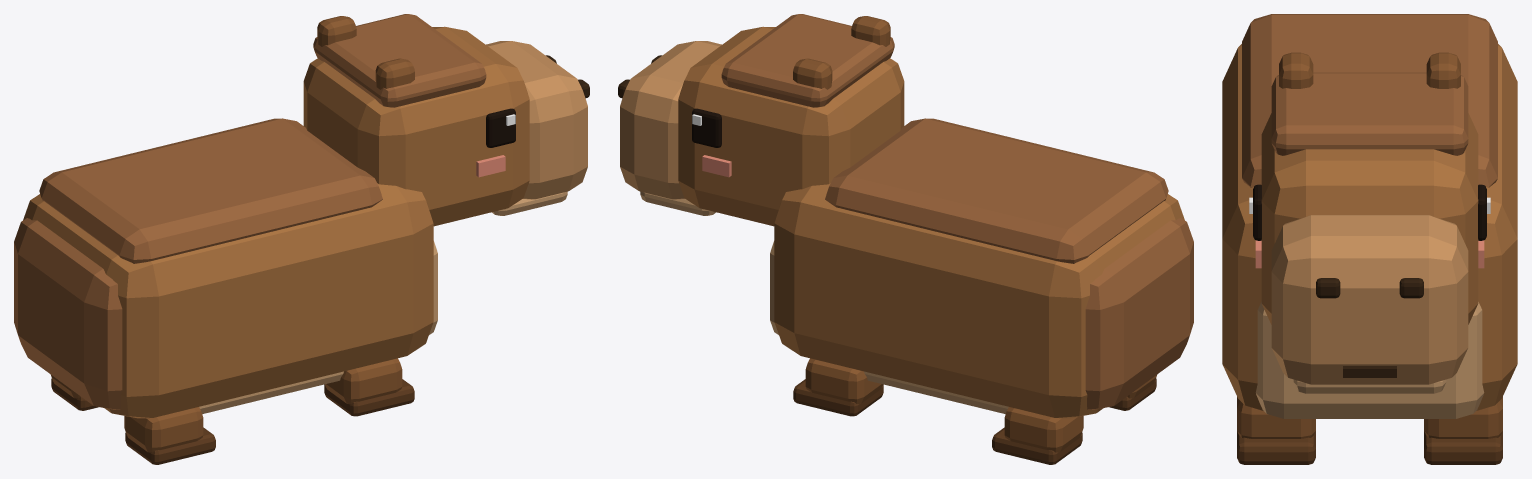
The model's file is capybara.glb.
The picture shows the model from 3 angles, left to right: view 1: azimuth 30°, elevation 25°; view 2: azimuth 150°, elevation 25°; view 3: azimuth 270°, elevation 25°; orthographic projection. The views are drawn at different scales.
Visible parts, largest first — view 1: Torso, Back, Skull, Rump, Brow, Snout, Leg_back_R, Leg_front_R, Foot_back_R, Foot_front_R, Belly, EarFlap_R (+3 smaller); view 2: Torso, Back, Skull, Rump, Brow, Snout, Leg_back_L, Leg_front_L, Foot_back_L, Foot_front_L, Belly, EarFlap_L (+3 smaller); view 3: Snout, Torso, Back, Skull, Brow, Chest, Foot_front_L, Foot_front_R, Leg_front_L, Leg_front_R, Chin, EarFlap_L (+6 smaller).
Part boxes in pixels (<box>): Torso: <box>23,183,433,418</box>; Back: <box>39,118,382,263</box>; Skull: <box>303,26,529,226</box>; Rump: <box>14,218,122,409</box>; Brow: <box>313,14,486,107</box>; Snout: <box>486,41,587,199</box>; Leg_back_R: <box>124,407,203,452</box>; Leg_front_R: <box>325,358,402,403</box>; Foot_back_R: <box>125,427,215,464</box>; Foot_front_R: <box>324,379,414,416</box>; Belly: <box>199,371,343,413</box>; EarFlap_R: <box>375,58,414,89</box>; Torso: <box>774,183,1184,418</box>; Back: <box>825,118,1168,263</box>; Skull: <box>678,26,904,226</box>; Rump: <box>1085,218,1193,409</box>; Brow: <box>721,14,894,107</box>; Snout: <box>620,41,721,199</box>; Leg_back_L: <box>1004,407,1083,452</box>; Leg_front_L: <box>805,358,882,403</box>; Foot_back_L: <box>992,427,1082,464</box>; Foot_front_L: <box>793,379,883,416</box>; Belly: <box>864,371,1008,413</box>; EarFlap_L: <box>793,58,832,89</box>; Snout: <box>1271,215,1468,384</box>; Torso: <box>1222,44,1517,410</box>; Back: <box>1242,14,1497,187</box>; Skull: <box>1261,113,1478,324</box>; Brow: <box>1271,72,1468,155</box>; Chest: <box>1255,302,1484,418</box>; Foot_front_L: <box>1424,431,1502,464</box>; Foot_front_R: <box>1237,431,1315,464</box>; Leg_front_L: <box>1424,397,1502,438</box>; Leg_front_R: <box>1237,397,1315,438</box>; Chin: <box>1293,379,1446,393</box>; EarFlap_L: <box>1426,52,1460,88</box>.
Bounding box in the file's own units: 3.08 × 1.84 × 1.2.
